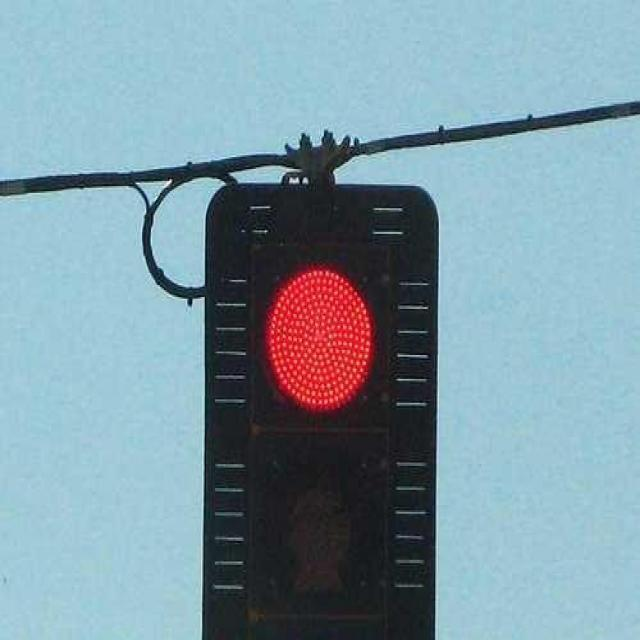traffic light: (203, 183, 440, 640), (243, 227, 395, 640), (249, 241, 393, 434)
